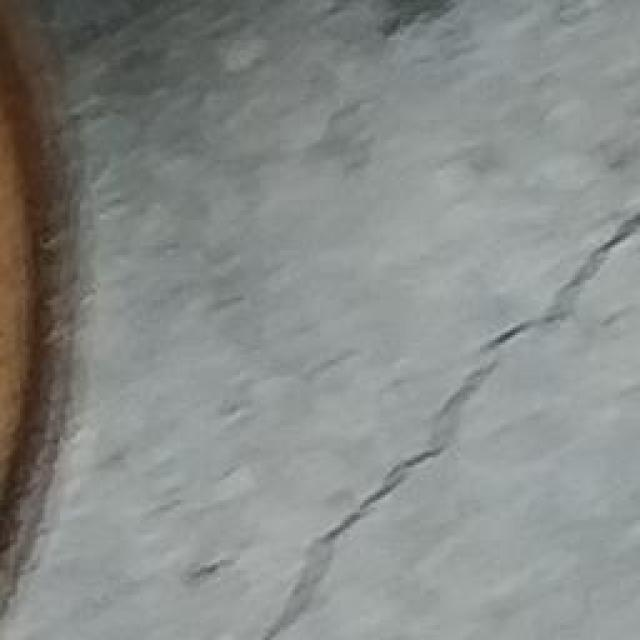Diagonal: (247, 193, 640, 640)
